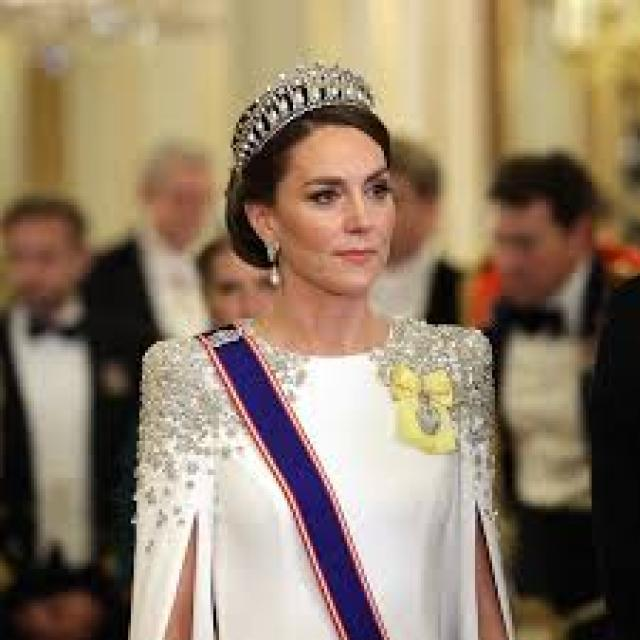Earring: (259, 230, 293, 294)
